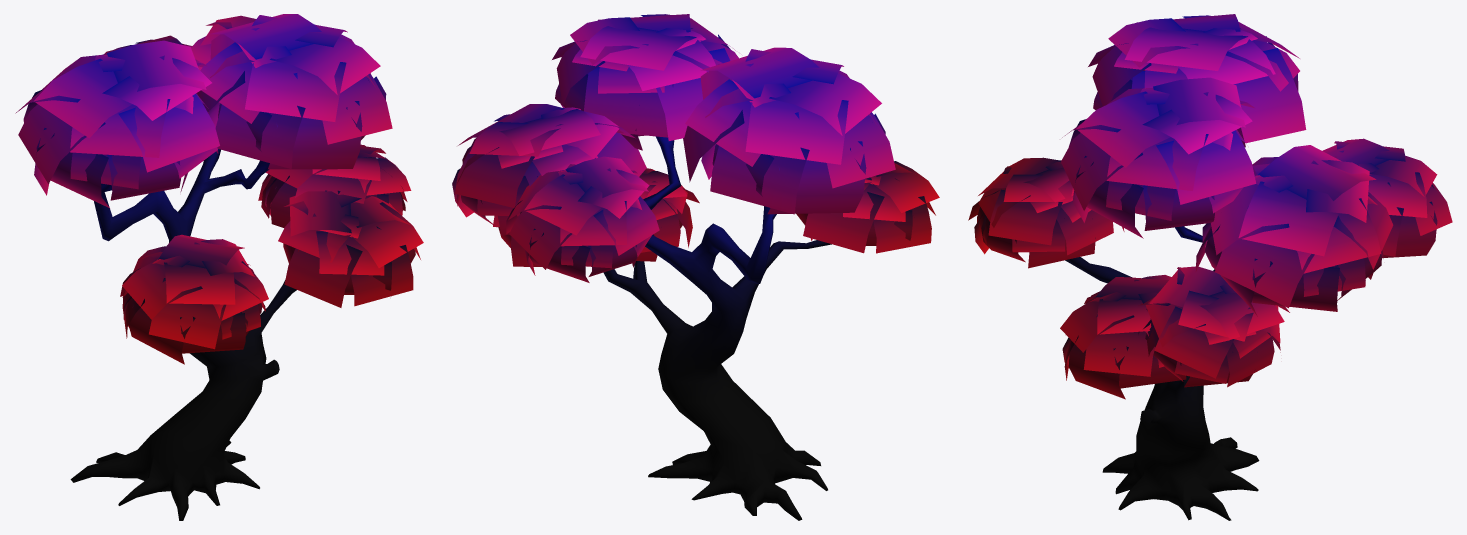
Rendered from tree_02.fbx.
The picture shows the model from 3 angles, left to right: view 1: azimuth 30°, elevation 25°; view 2: azimuth 150°, elevation 25°; view 3: azimuth 270°, elevation 25°; orthographic projection. The views are drawn at different scales.
Parts seen in each view (by area): view 1: tree_02; view 2: tree_02; view 3: tree_02.
Boxes of the visible parts, <box> form: tree_02: <box>15,14,423,520</box>; tree_02: <box>452,14,939,520</box>; tree_02: <box>968,14,1452,520</box>.
Size of the model in its own units: 1588 by 1729 by 1717.
